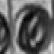correct: (13, 0, 52, 54)
